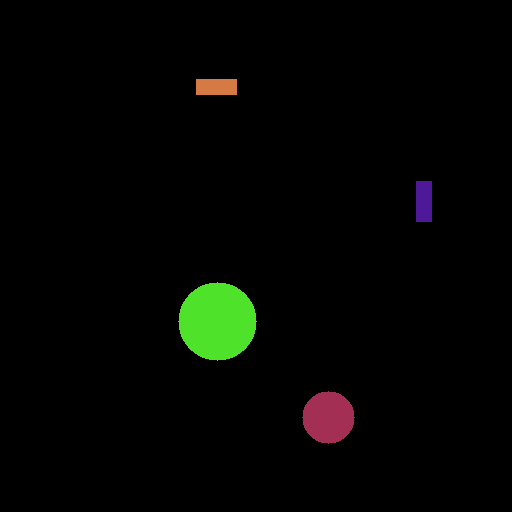circle: (171, 279, 263, 365), (296, 385, 358, 447)
side_rect: (186, 74, 240, 99)
up_rect: (411, 177, 437, 231)
